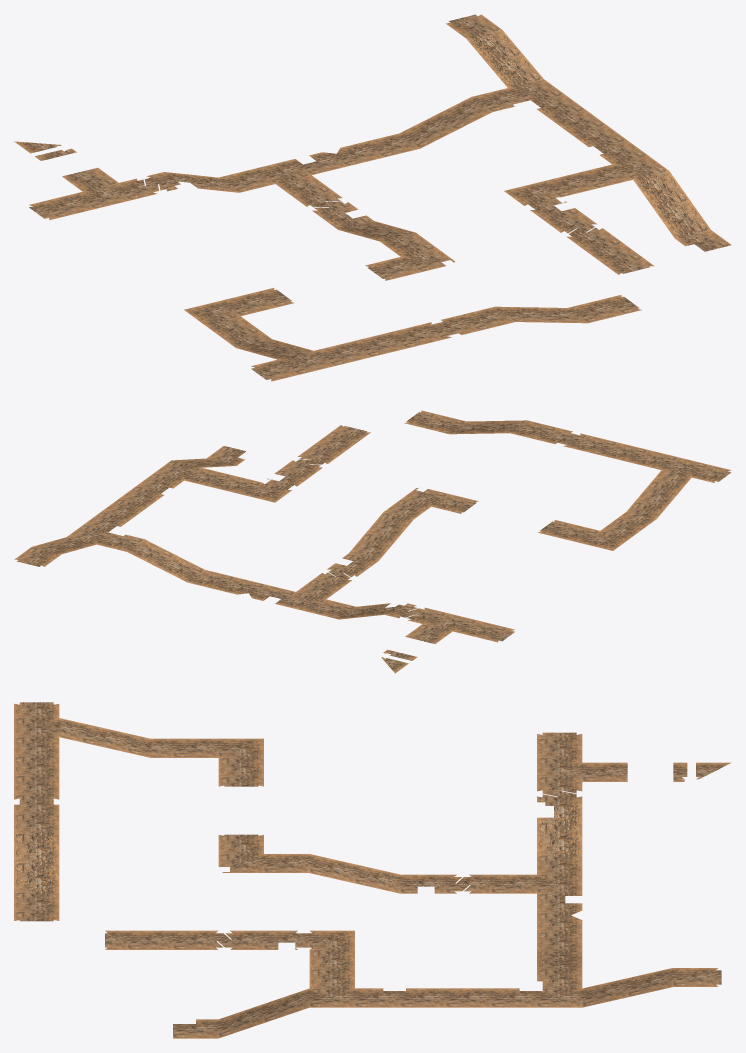
3 views of the same model, one above another, from view 1: azimuth 30°, elevation 25°; view 2: azimuth 150°, elevation 25°; view 3: azimuth 270°, elevation 25° (orthographic). The views are drawn at different scales.
Visible parts, largest first — view 1: Object_25; view 2: Object_25; view 3: Object_25.
Boxes of the visible parts, x1=… form: Object_25: x1=14, y1=14, x2=731, y2=381; Object_25: x1=14, y1=410, x2=731, y2=673; Object_25: x1=14, y1=702, x2=731, y2=1038.
Size of the model in its own units: 50.56 by 4.27 by 53.9.
Materials: 1 (1 with a texture image).
